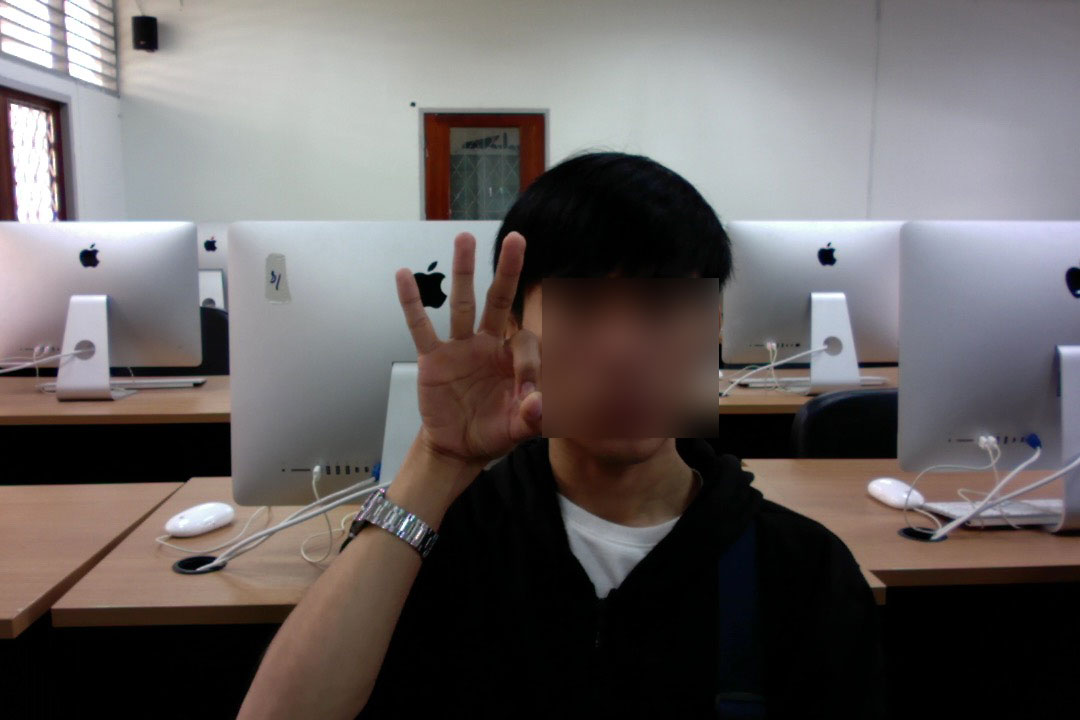for: (377, 200, 565, 508)
